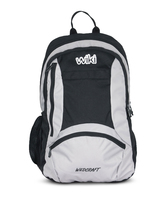bag: (27, 8, 139, 184)
